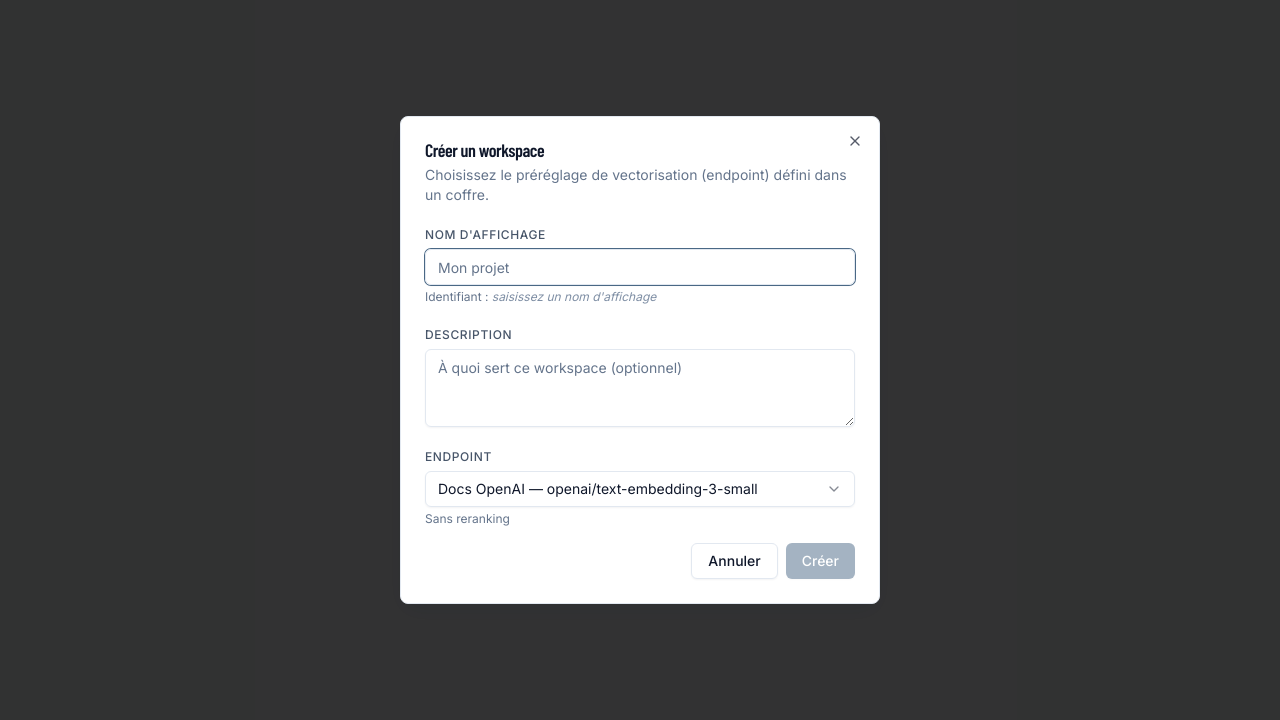
Test: CreateWorkspaceDialog (endpoint-based) › dérive le slug depuis le label saisi
The width and height of the screenshot is (1280, 720).
Type "Mon Super Projet !" into the field with placeholder "Mon projet". click: (640, 267)
box: [425,249,855,285]
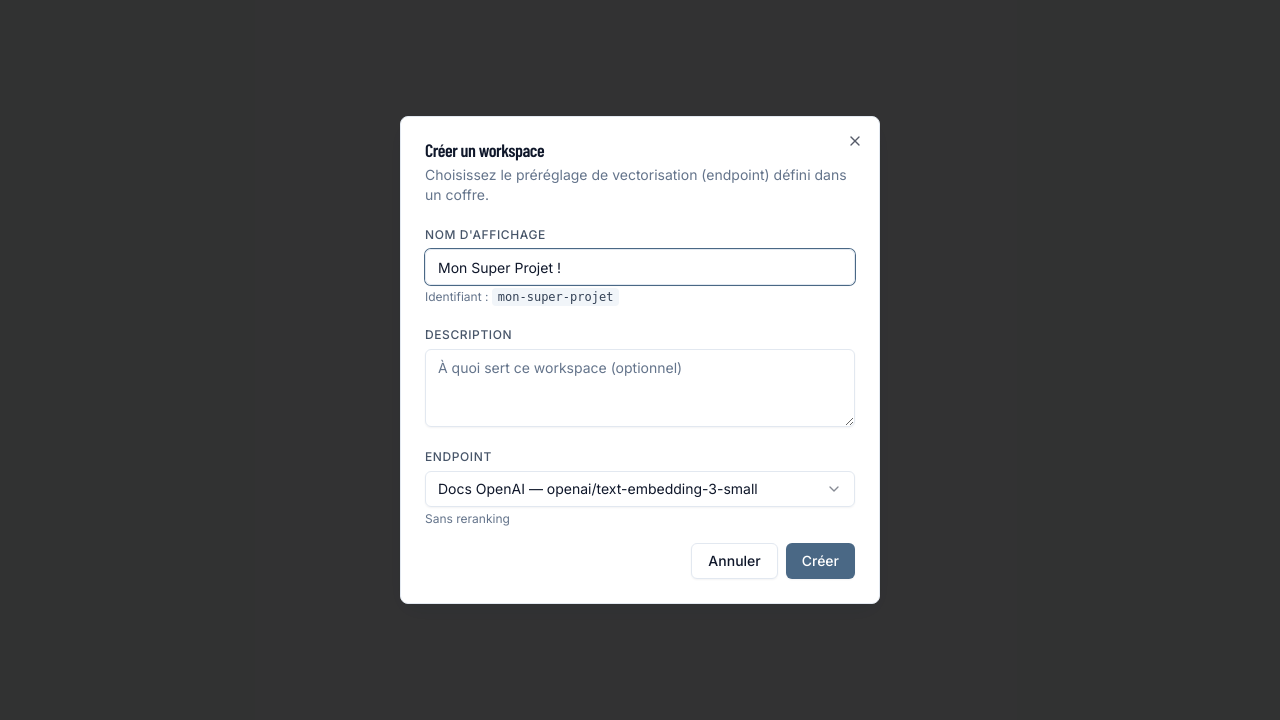
Now the text "mon-super-projet" is shown, box [492,288,619,306]
